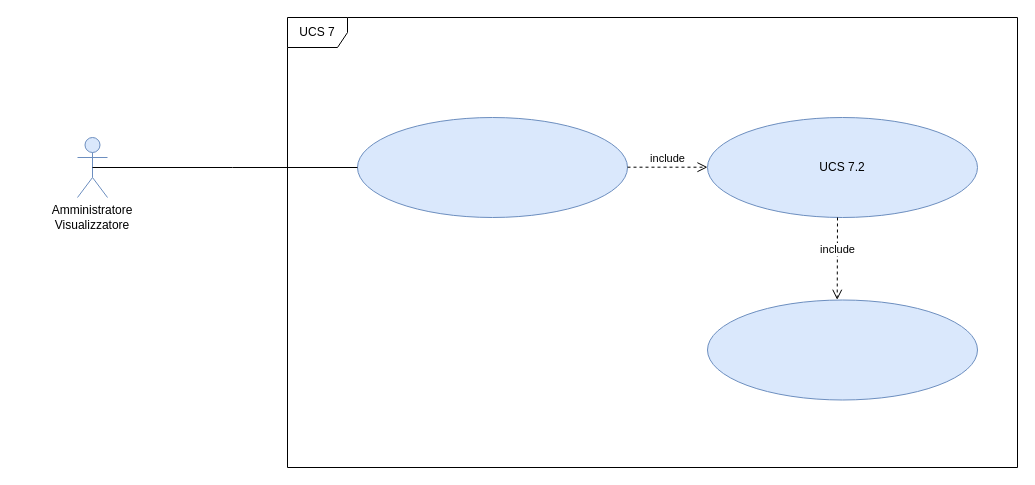
Some shapes in this 1035 by 485 pixel diagram are drawn without their labels. Each missing label, with the box of its shape:
UCS 7.1: (356, 116, 628, 218)
UCS 7.3: (706, 299, 978, 400)
